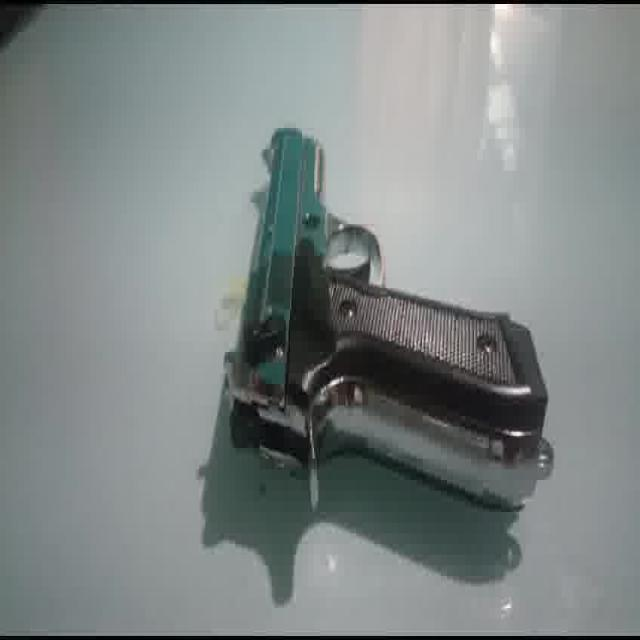weapon: (222, 126, 554, 514)
